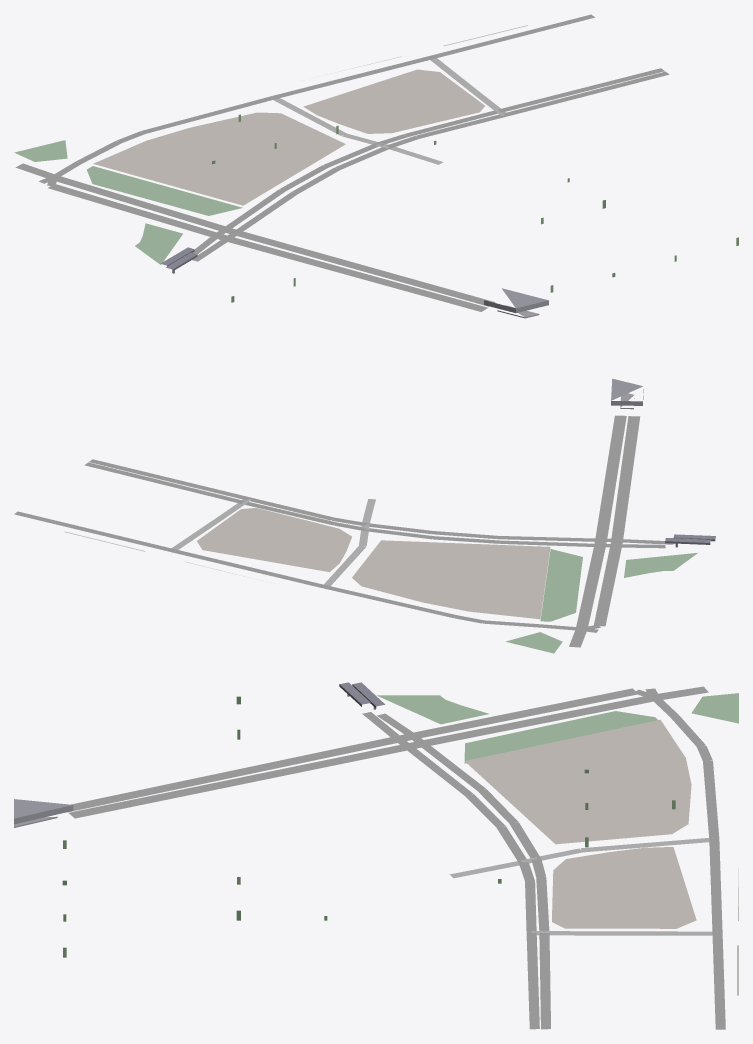
3 views of the same model, one above another, from view 1: azimuth 30°, elevation 25°; view 2: azimuth 150°, elevation 25°; view 3: azimuth 270°, elevation 25° (orthographic). The views are drawn at different scales.
Bounding box in the file's own units: 567 × 14.27 × 500.
